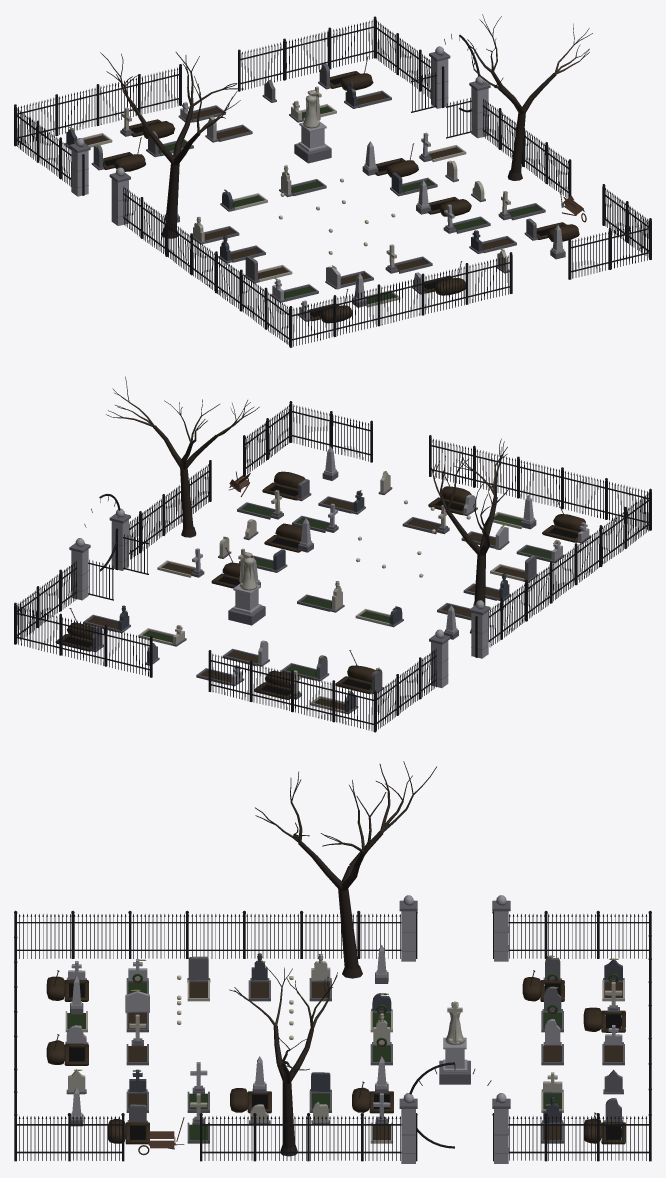
Rendered from hg-graveyard.glb.
The picture shows the model from 3 angles, top to bottom: view 1: azimuth 30°, elevation 25°; view 2: azimuth 150°, elevation 25°; view 3: azimuth 270°, elevation 25°; orthographic projection. The views are drawn at different scales.
Visible parts, largest first — view 1: hg-graveyard; view 2: hg-graveyard; view 3: hg-graveyard.
Boxes of the visible parts, <box> form: hg-graveyard: <box>14,14,651,347</box>; hg-graveyard: <box>14,376,651,732</box>; hg-graveyard: <box>14,761,651,1163</box>.
Bounding box in the file's own units: 23.85 × 9.21 × 26.14.
